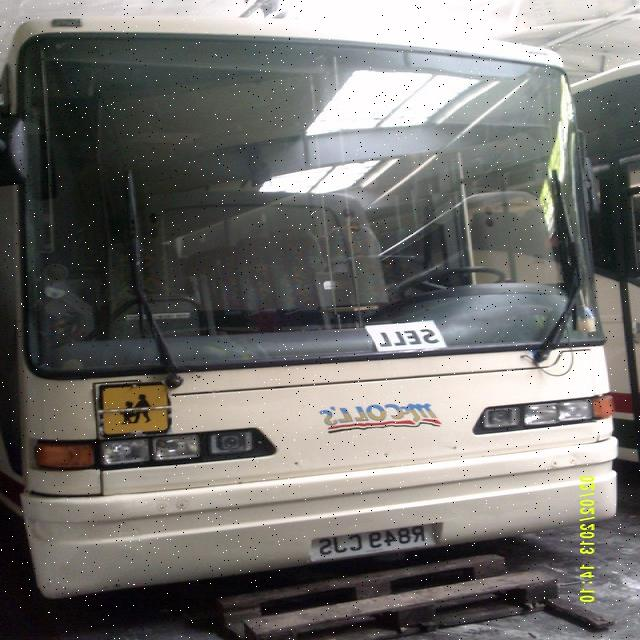Bus: (0, 21, 618, 591), (573, 63, 640, 466)
